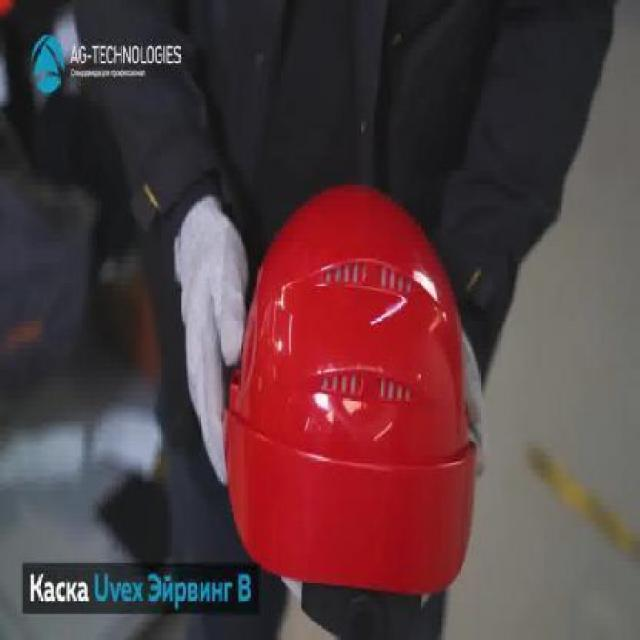Gloves: (172, 192, 252, 486)
Helmet: (221, 182, 477, 598)
